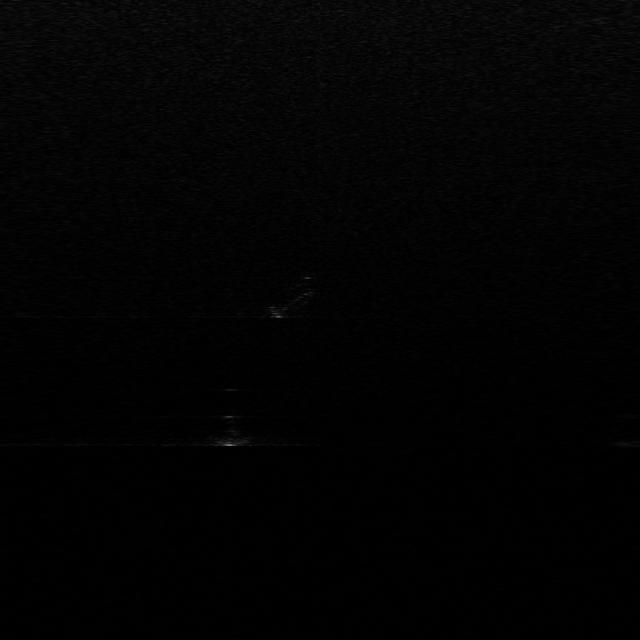ball: (208, 414, 254, 446)
tyre: (271, 276, 317, 319)
